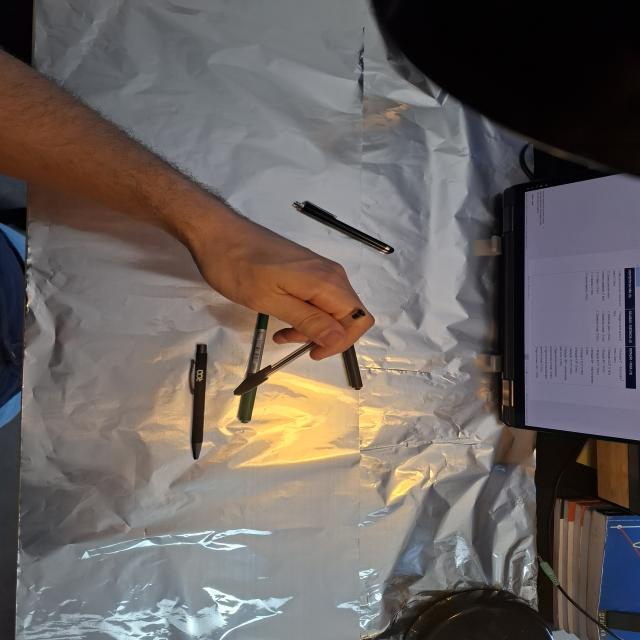glove_off: (181, 202, 377, 362)
